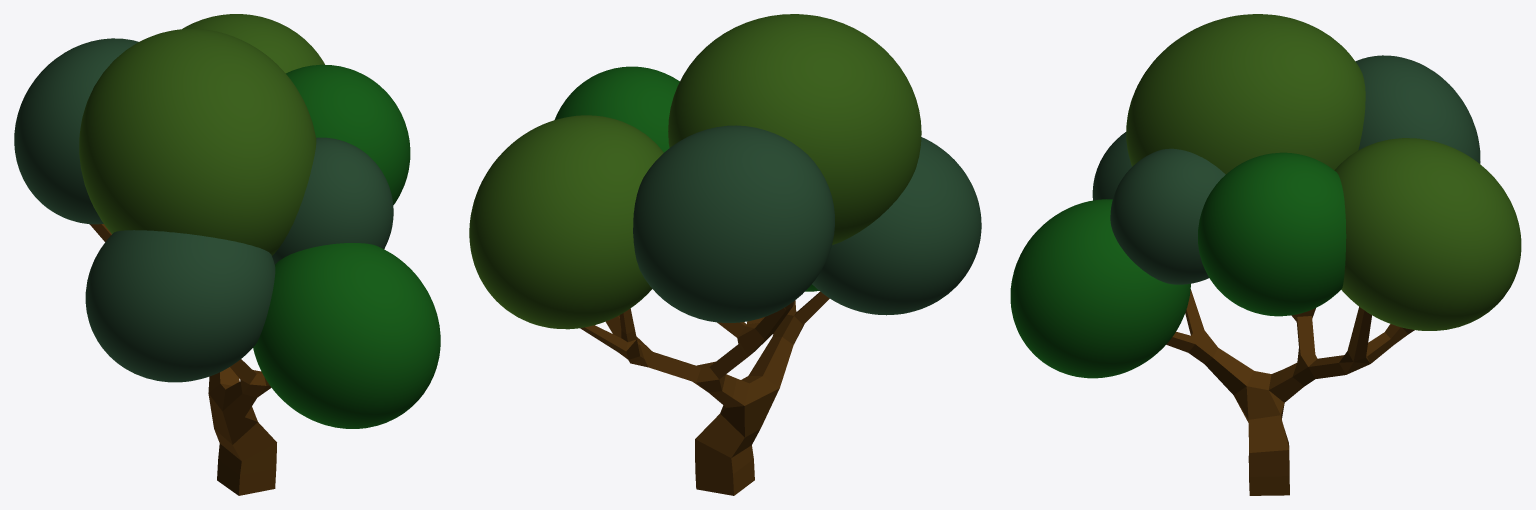
The model's file is tree3_cityedit-C4pDJXZ_.glb.
The picture shows the model from 3 angles, left to right: view 1: azimuth 30°, elevation 25°; view 2: azimuth 150°, elevation 25°; view 3: azimuth 270°, elevation 25°; orthographic projection. The views are drawn at different scales.
Visible parts, largest first — view 1: Sphere.001, Sphere.005, Sphere.004, Sphere.002, Sphere.006, Sphere.003, Cube, Sphere; view 2: Sphere.001, Sphere.002, Sphere, Sphere.004, Cube, Sphere.003; view 3: Sphere.001, Sphere, Sphere.005, Sphere.003, Cube, Sphere.006, Sphere.002, Sphere.004.
Boxes of the visible parts, x1,y1,x2,y2 form: Sphere.001: (79,29,316,255); Sphere.005: (253,243,440,428); Sphere.004: (85,230,275,382); Sphere.002: (14,38,138,224); Sphere.006: (272,137,393,264); Sphere.003: (286,64,410,204); Cube: (90,224,276,495); Sphere: (182,14,324,73); Sphere.001: (668,14,921,244); Sphere.002: (633,125,834,322); Sphere: (469,115,663,329); Sphere.004: (812,137,981,315); Cube: (580,291,829,495); Sphere.003: (554,66,679,152); Sphere.001: (1126,14,1365,174); Sphere: (1334,138,1521,330); Sphere.005: (1010,199,1190,378); Sphere.003: (1198,152,1346,316); Cube: (1166,289,1414,495); Sphere.006: (1110,148,1225,284); Sphere.002: (1355,55,1480,163); Sphere.004: (1092,132,1131,200).
Bounding box in the file's own units: 7.89 × 9.94 × 10.54.
